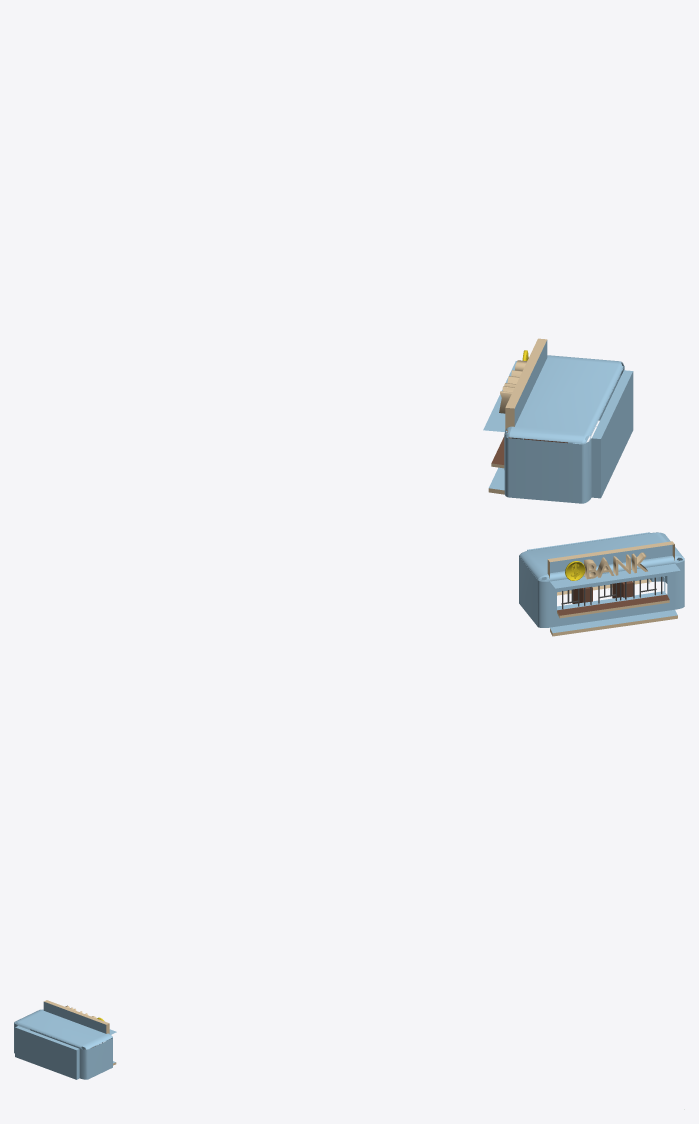
The model's file is villagebank.glb.
3 views of the same model, one above another, from view 1: azimuth 30°, elevation 25°; view 2: azimuth 150°, elevation 25°; view 3: azimuth 270°, elevation 25° (orthographic). The views are drawn at different scales.
Visible parts, largest first — view 1: game bankk; view 2: game bankk; view 3: game bankk.
Part boxes in pixels (x1,y1,x2,y2): game bankk: [483, 338, 633, 503]; game bankk: [519, 532, 684, 636]; game bankk: [14, 1000, 116, 1079].
Bounding box in the file's own units: 166 × 90.98 × 901.
Materials: 3 (3 with a texture image).
